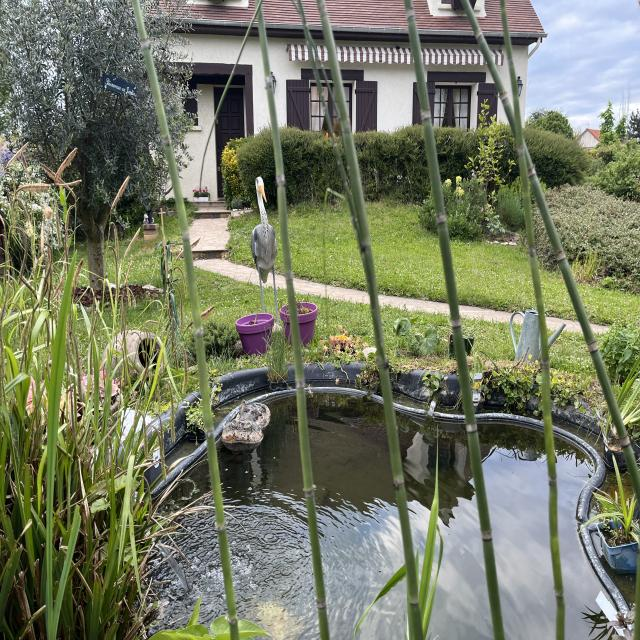Heron: (242, 170, 292, 322)
